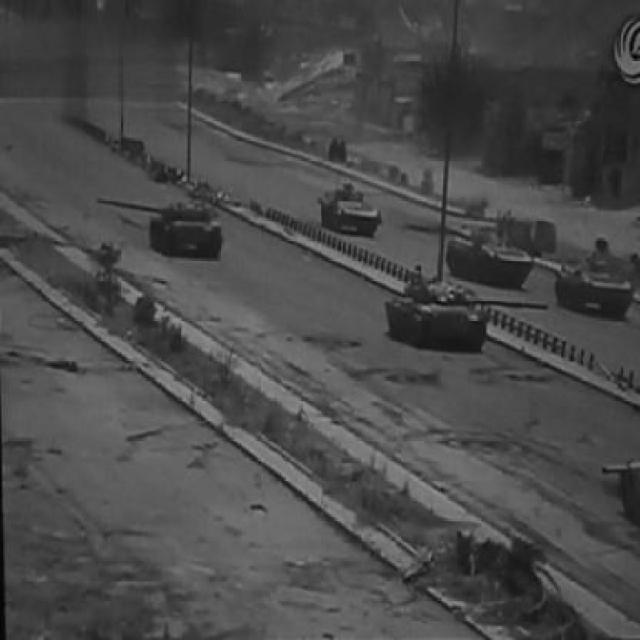Tank: (378, 260, 553, 368), (91, 190, 237, 270), (427, 212, 563, 293), (541, 225, 640, 323), (311, 174, 391, 253), (596, 454, 640, 533)
